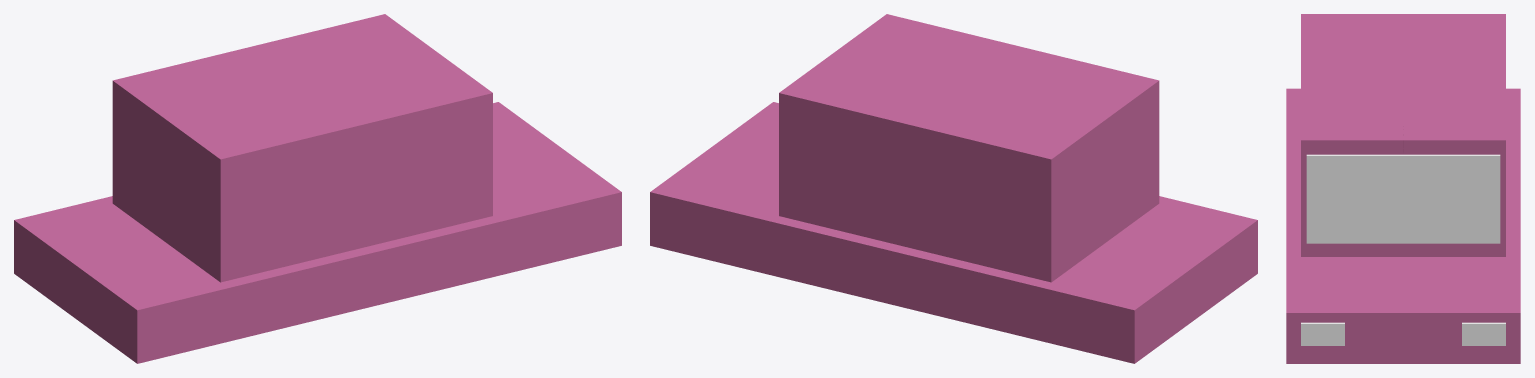
File: car2.fbx
3 renders of one model, left to right at view 1: azimuth 30°, elevation 25°; view 2: azimuth 150°, elevation 25°; view 3: azimuth 270°, elevation 25°, orthographic. The views are drawn at different scales.
Visible parts, largest first — view 1: Cube; view 2: Cube; view 3: Cube.
Boxes of the visible parts, x1=… form: Cube: x1=14, y1=14, x2=621, y2=363; Cube: x1=650, y1=14, x2=1257, y2=363; Cube: x1=1286, y1=14, x2=1520, y2=363.
Size of the model in its own units: 500 by 173 by 219.
